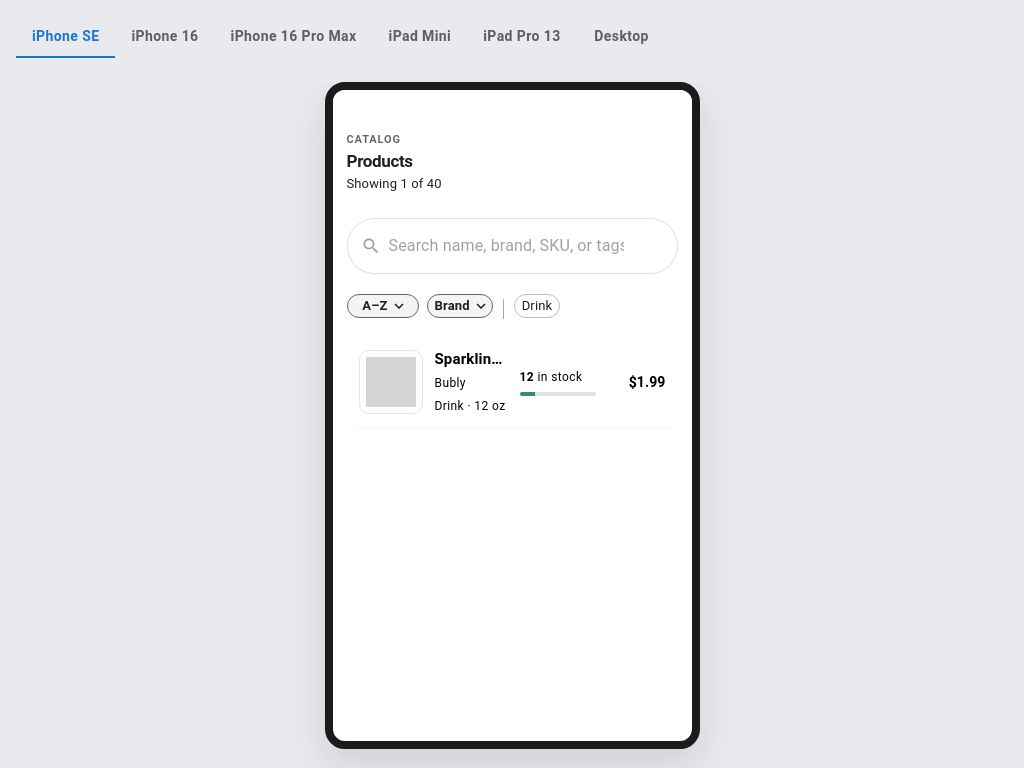
Test case: CatalogMock › opens the inspect sheet with cost and SKU from a row
Expected: the text "Sparkling Water" is shown, [434, 348, 508, 370]
Step 1. Click the button "Sparkling Water Bubly Drink · 12 oz 12 in stock $1.99" → (390,382), box [346, 338, 678, 427]
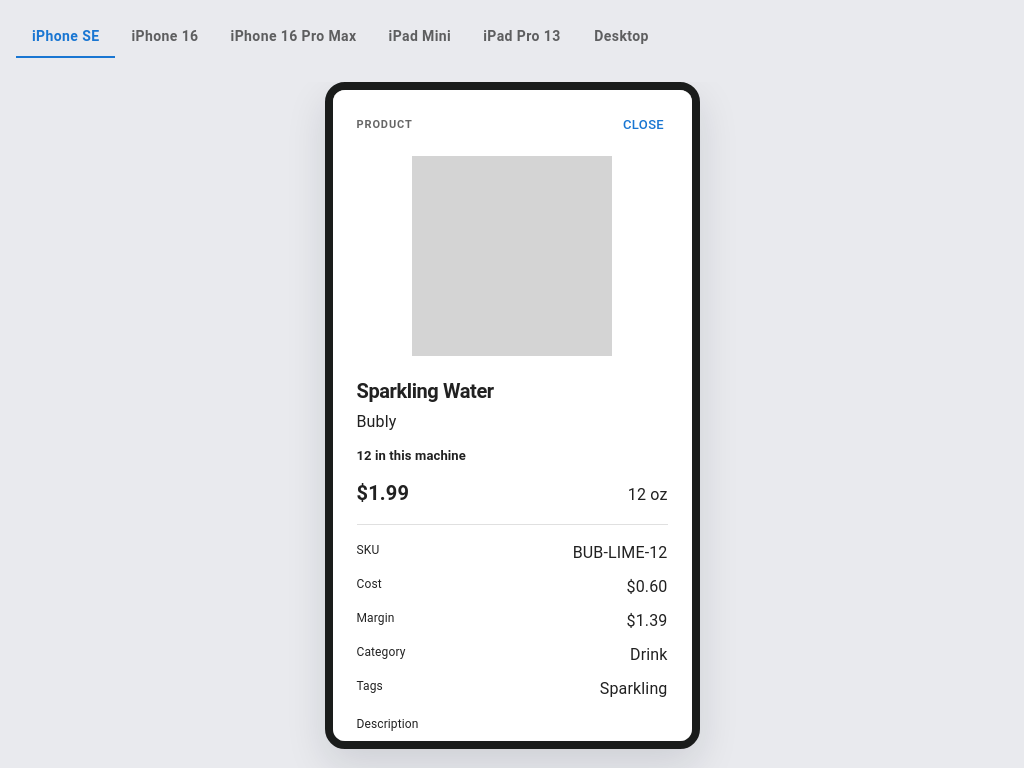
Result: the text "12 in this machine" is shown at [356, 448, 466, 463]
Result: the text "SKU" is shown at [356, 543, 379, 557]
Result: the text "BUB-LIME-12" is shown at [573, 541, 668, 565]
